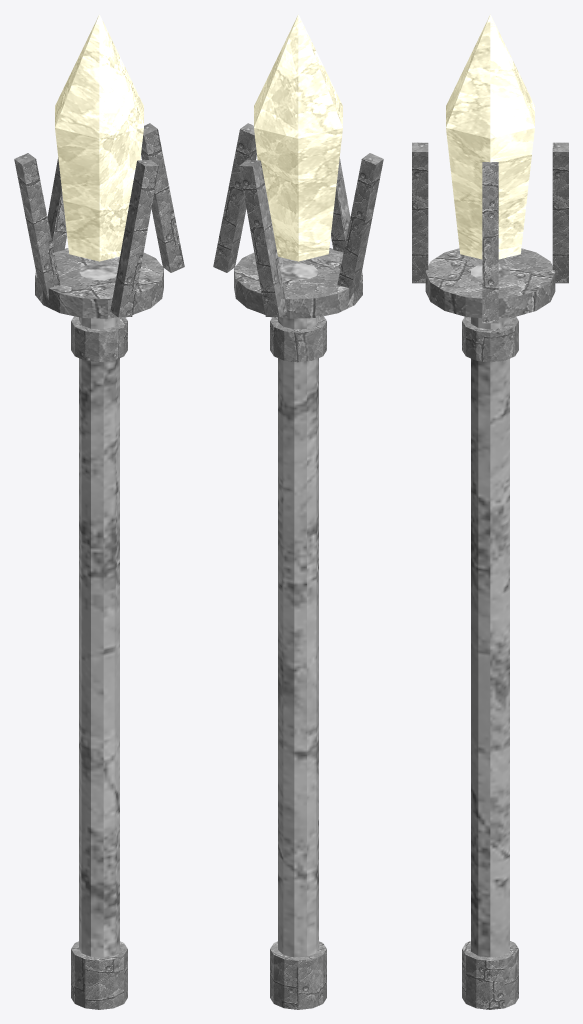
File: staff-radiance-crystal.glb
3 views of the same model, side by side, from view 1: azimuth 30°, elevation 25°; view 2: azimuth 150°, elevation 25°; view 3: azimuth 270°, elevation 25° (orthographic).
Parts seen in each view (by area): view 1: shaft, focus, ring, ray1, pommel, ray2, ray0, neck, ray3; view 2: shaft, focus, ring, ray3, pommel, ray2, ray0, neck, ray1; view 3: shaft, focus, ring, pommel, ray0, ray1, ray3, neck.
Part boxes in pixels (x1,y1,x2,y2): shaft: [79, 263, 119, 957]; focus: [55, 14, 143, 261]; ring: [35, 248, 163, 318]; ray1: [110, 160, 158, 317]; pommel: [71, 941, 127, 1009]; ray2: [14, 153, 60, 299]; ray0: [141, 123, 184, 272]; neck: [71, 316, 127, 362]; ray3: [47, 157, 66, 252]; shaft: [278, 263, 318, 957]; focus: [254, 14, 342, 261]; ring: [234, 248, 362, 318]; ray3: [239, 160, 287, 317]; pommel: [270, 941, 326, 1009]; ray2: [337, 153, 383, 299]; ray0: [213, 123, 256, 272]; neck: [270, 316, 326, 362]; ray1: [331, 157, 350, 252]; shaft: [471, 264, 509, 957]; focus: [446, 14, 534, 259]; ring: [425, 248, 555, 318]; pommel: [462, 941, 518, 1009]; ray0: [482, 162, 498, 323]; ray1: [412, 142, 428, 283]; ray3: [552, 142, 568, 283]; neck: [462, 316, 518, 362].
Bounding box in the file's own units: 0.3467 × 2.01 × 0.29.
Materials: 3 (3 with a texture image).
